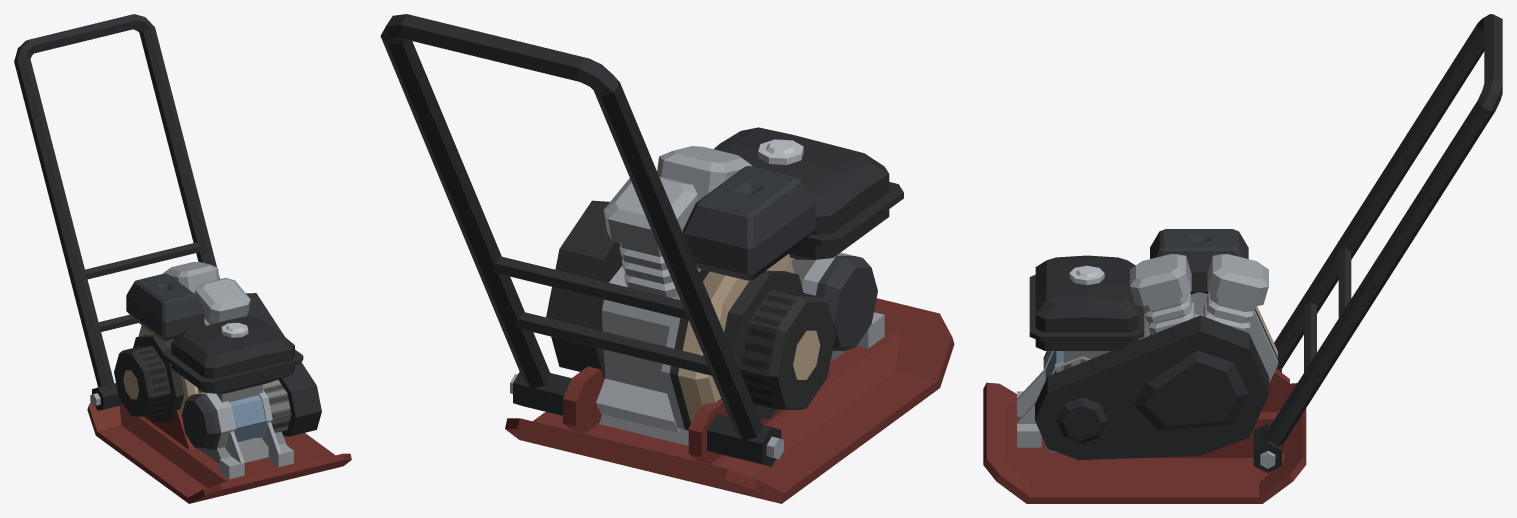
File: SM_Prop_Compactor_01.fbx
The picture shows the model from 3 angles, left to right: view 1: azimuth 30°, elevation 25°; view 2: azimuth 150°, elevation 25°; view 3: azimuth 270°, elevation 25°; orthographic projection. The views are drawn at different scales.
Parts seen in each view (by area): view 1: SM_Prop_Compactor_01; view 2: SM_Prop_Compactor_01; view 3: SM_Prop_Compactor_01.
Part boxes in pixels (<box>): SM_Prop_Compactor_01: <box>14,14,351,503</box>; SM_Prop_Compactor_01: <box>380,14,954,503</box>; SM_Prop_Compactor_01: <box>983,14,1502,503</box>.
Size of the model in its own units: 43.55 by 86.63 by 99.61.
